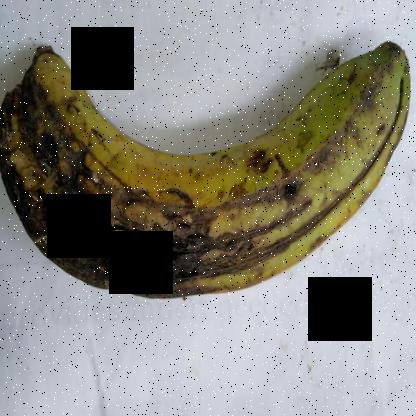rotten: (1, 29, 136, 310), (98, 170, 335, 314)
